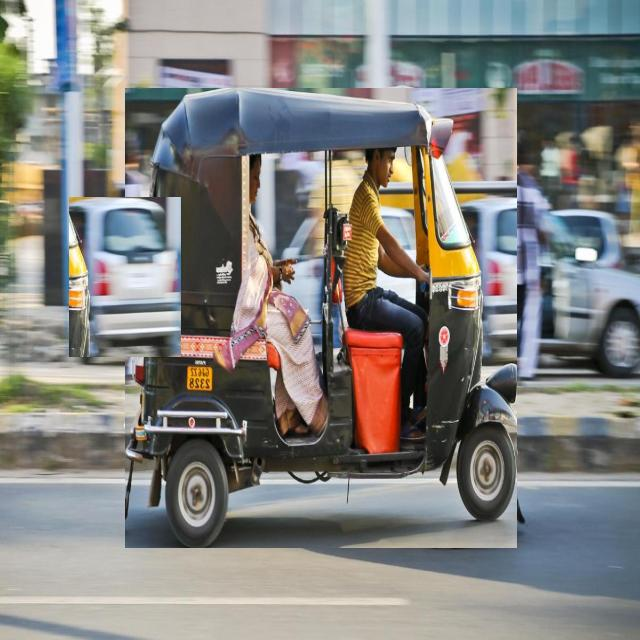autorickshaw: (126, 89, 517, 548)
car: (69, 198, 181, 357)
